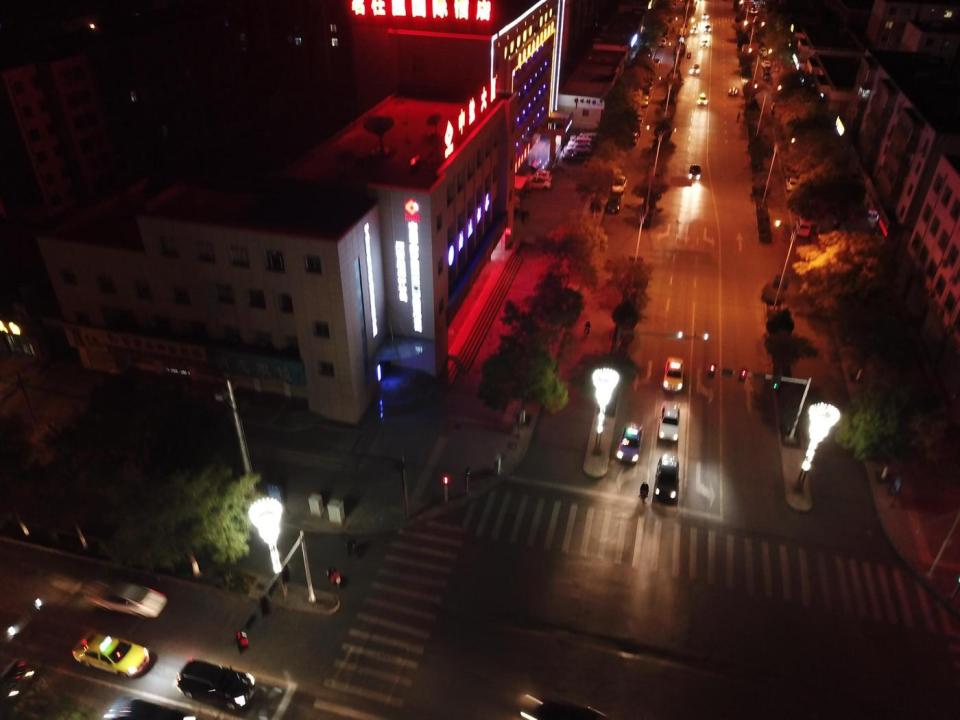car: (176, 660, 255, 710), (71, 632, 150, 676), (81, 579, 167, 618), (103, 696, 206, 720), (655, 455, 680, 502), (617, 421, 644, 464), (658, 400, 681, 442), (662, 356, 684, 392), (525, 170, 552, 184), (522, 178, 550, 189), (562, 152, 590, 163), (606, 193, 620, 214), (566, 144, 590, 156), (570, 134, 592, 147), (611, 173, 626, 192), (567, 138, 591, 149), (783, 160, 798, 176), (688, 164, 701, 181), (578, 131, 598, 142), (864, 209, 878, 224), (786, 177, 797, 191), (629, 130, 638, 144), (642, 77, 653, 88), (690, 63, 699, 76), (698, 92, 707, 105), (631, 122, 642, 132), (728, 86, 739, 96), (634, 112, 643, 123), (763, 69, 772, 80), (640, 88, 650, 97), (639, 97, 649, 106), (754, 27, 764, 36), (650, 58, 659, 67), (658, 36, 666, 46), (759, 47, 767, 57), (700, 38, 708, 46), (762, 59, 769, 67), (758, 42, 766, 49), (690, 25, 696, 33), (748, 2, 756, 8), (754, 18, 760, 26), (704, 25, 711, 31), (661, 32, 667, 38), (702, 12, 708, 18), (750, 8, 757, 13), (663, 25, 668, 31), (749, 0, 755, 4)
van: (796, 216, 810, 236)
